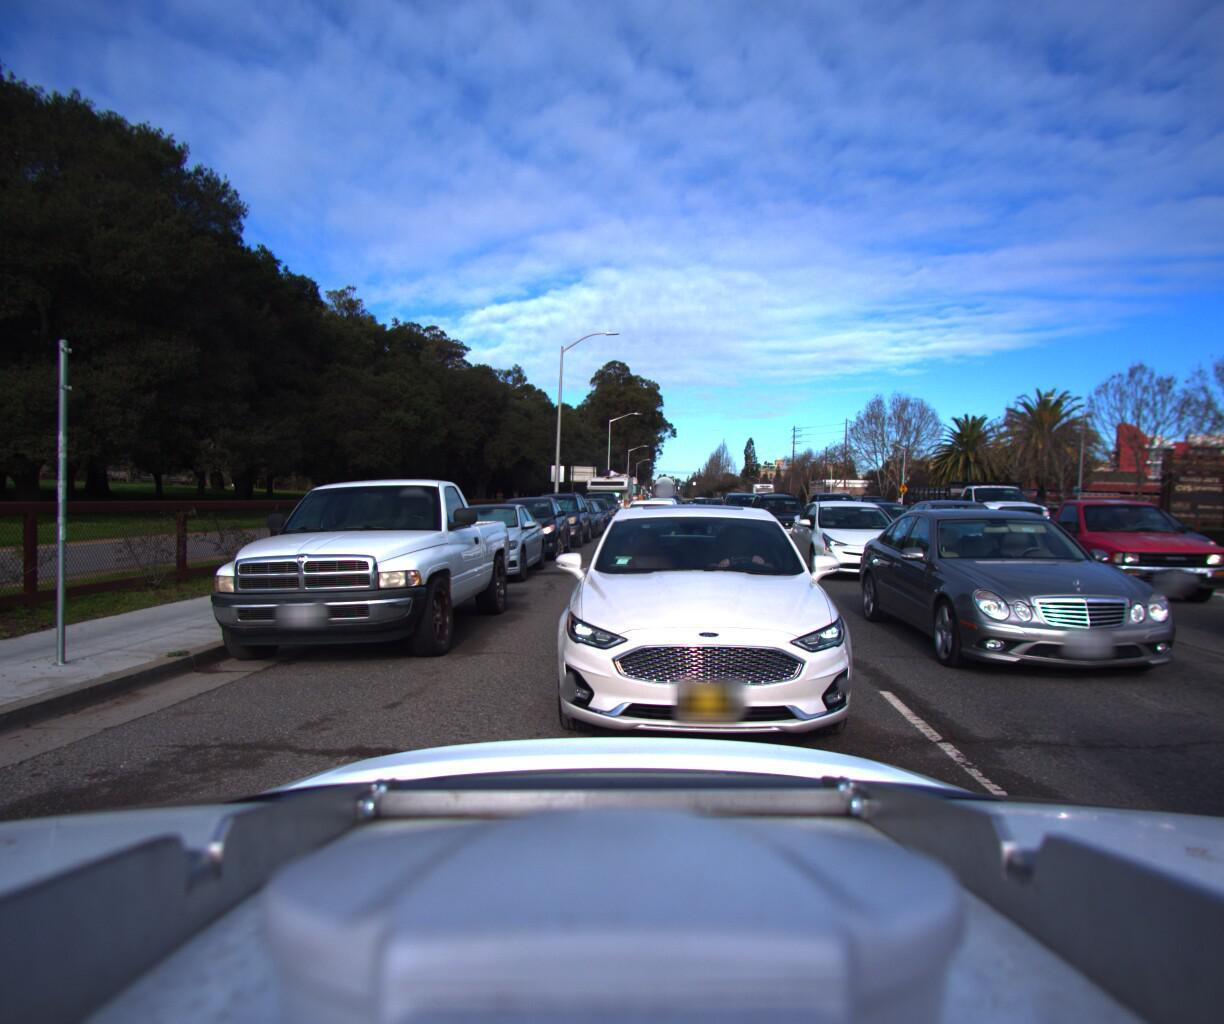car: (534, 498, 896, 798), (181, 463, 534, 677), (850, 502, 1219, 692), (995, 489, 1224, 614), (779, 495, 920, 583), (1067, 502, 1224, 576), (429, 495, 554, 583), (890, 496, 1031, 568), (484, 490, 575, 562), (607, 495, 694, 564), (844, 501, 932, 551), (740, 492, 814, 546), (524, 489, 594, 546), (716, 495, 776, 536), (1187, 513, 1224, 570), (555, 496, 607, 535), (569, 491, 617, 529), (578, 487, 623, 523), (1219, 491, 1224, 744), (702, 496, 738, 523), (648, 485, 675, 516), (688, 494, 711, 514)
other_vehicle: (582, 471, 636, 522), (601, 473, 644, 513), (614, 480, 647, 510)
truck: (900, 467, 1076, 564), (642, 471, 681, 510)
